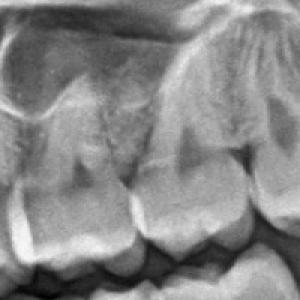tooth: (19, 76, 151, 277), (136, 85, 258, 257), (241, 52, 300, 239)
